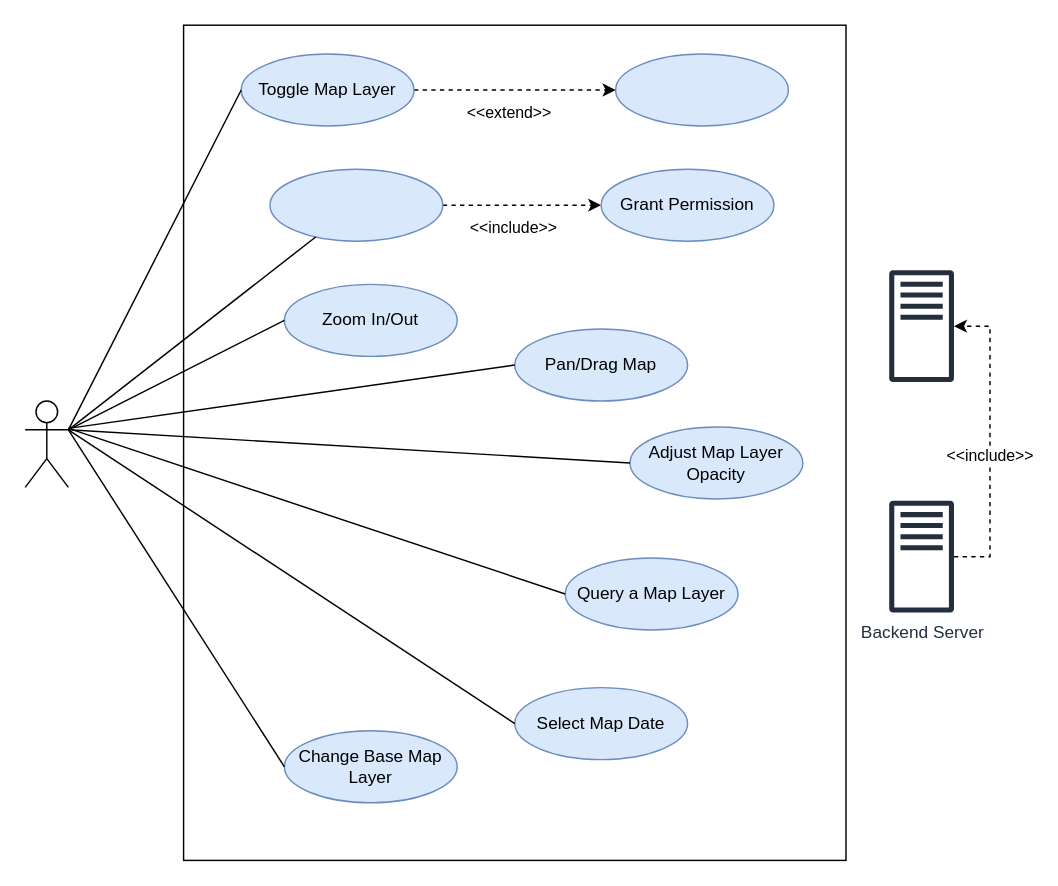
Some shapes in this 1058 by 886 pixel diagram are drawn without their labels. The shapes that lost their labels are listed below. From the top down, each one's centre as x and y in pixels, then its label:
At (701,89): "Show Map Legend".
At (356,204): "Center on User Location".
At (920,325): "Map Server".
At (46,443): "User".
